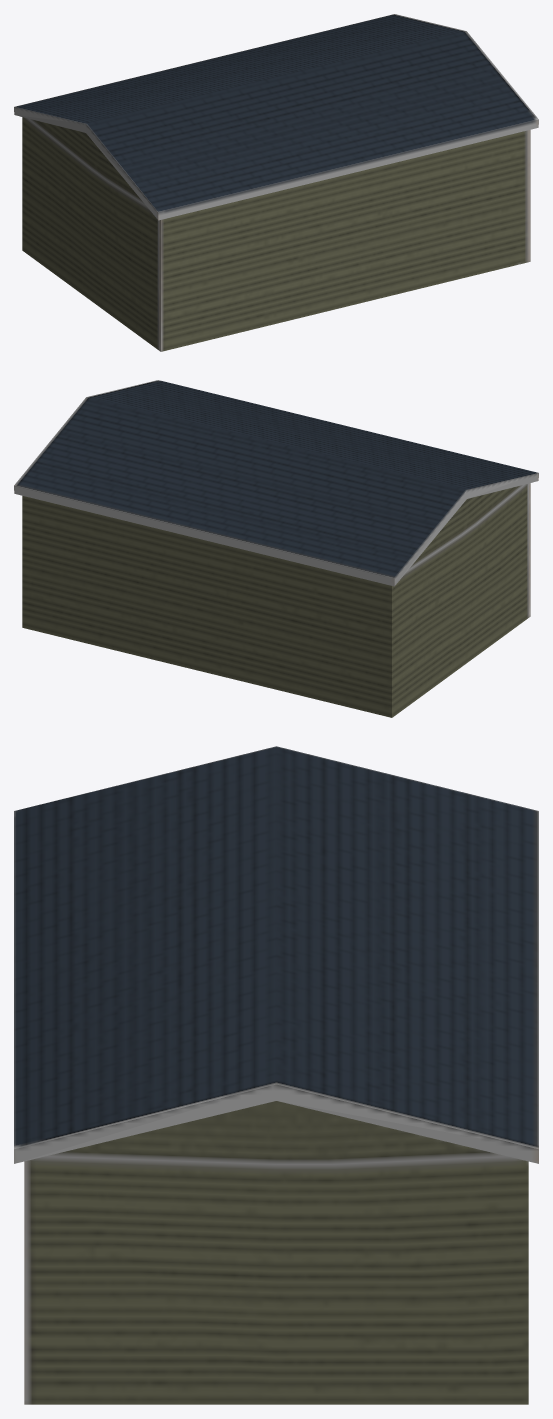
File: House001_Model.fbx
The picture shows the model from 3 angles, top to bottom: view 1: azimuth 30°, elevation 25°; view 2: azimuth 150°, elevation 25°; view 3: azimuth 270°, elevation 25°; orthographic projection. The views are drawn at different scales.
Visible parts, largest first — view 1: C_House001; view 2: C_House001; view 3: C_House001.
Part boxes in pixels (x1,y1,x2,y2): C_House001: (14, 14, 538, 351); C_House001: (14, 380, 538, 717); C_House001: (14, 746, 538, 1404).
Bounding box in the file's own units: 9.85 × 4.41 × 6.46.
